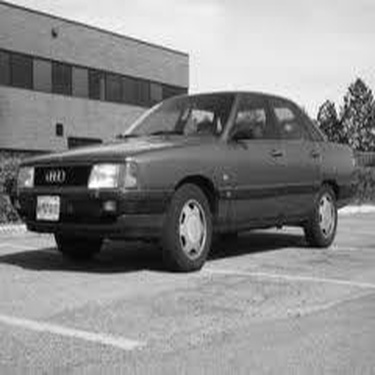car: (10, 76, 362, 278)
